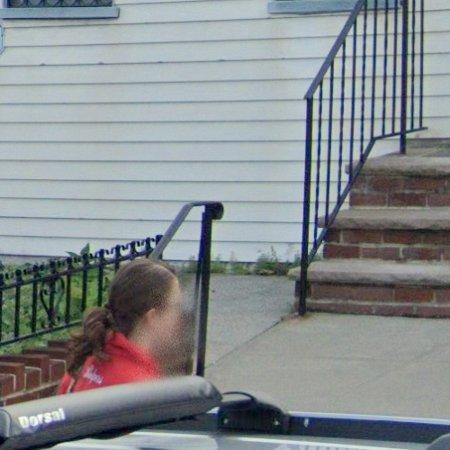stairs: (308, 139, 450, 318)
